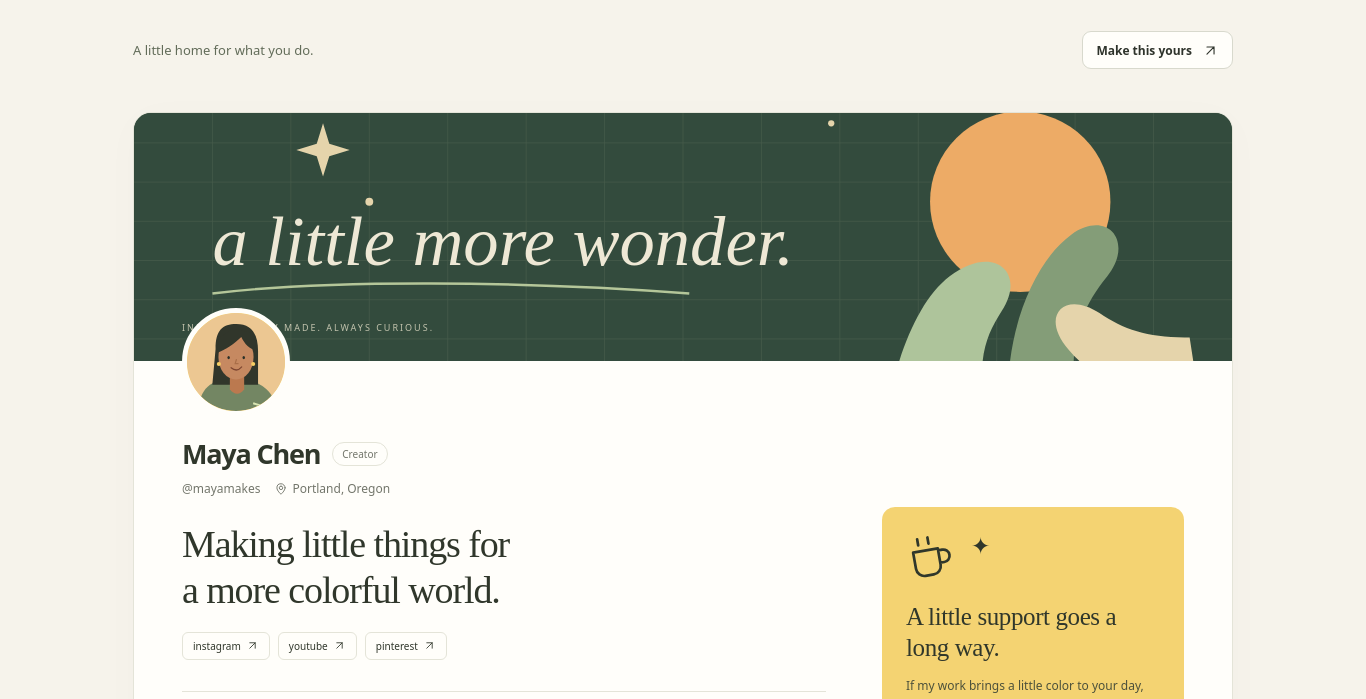
it: BioPage DOM interactions (not browser layout tests) › opens via buttons and query parameters and follows popstate
Check: the heading "Maya Chen" is shown, box [182,435,320,472]
Click the button "Make this yours".
click(1158, 50)  # box [1082,31,1233,69]
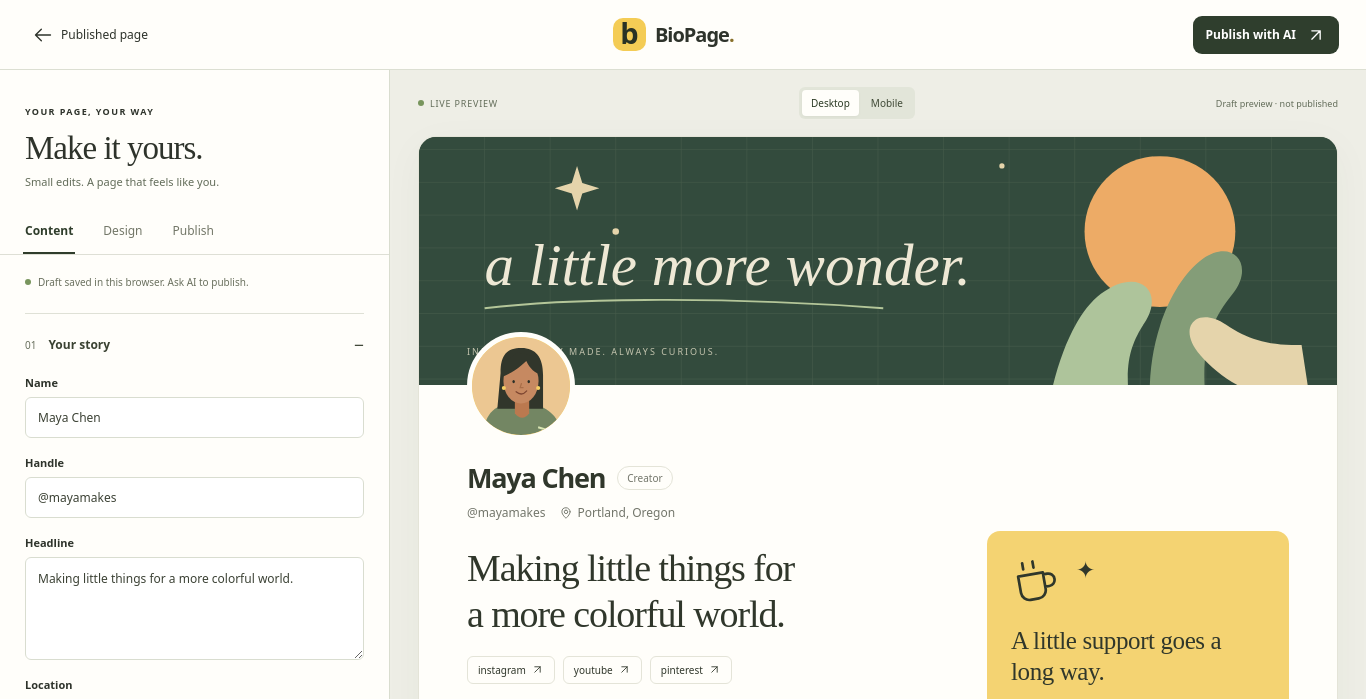
Check: the field labelled "Name" holds "Maya Chen", box [25,397,364,438]
